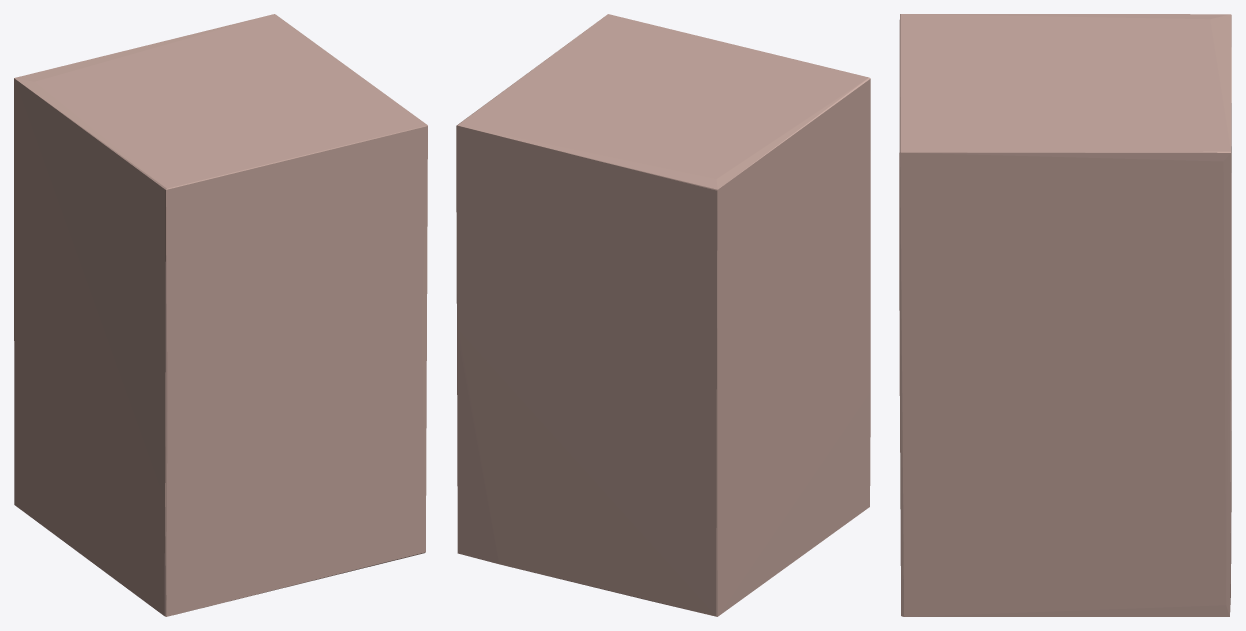
File: box_corrugated_brown_b19.glb
The picture shows the model from 3 angles, left to right: view 1: azimuth 30°, elevation 25°; view 2: azimuth 150°, elevation 25°; view 3: azimuth 270°, elevation 25°; orthographic projection. The views are drawn at different scales.
Visible parts, largest first — view 1: geometry_0; view 2: geometry_0; view 3: geometry_0.
Boxes of the visible parts, bbox=[...] form: geometry_0: bbox=[14, 14, 427, 616]; geometry_0: bbox=[456, 14, 870, 616]; geometry_0: bbox=[899, 14, 1231, 616].
Bounding box in the file's own units: 0.3067 × 0.4789 × 0.3093.
